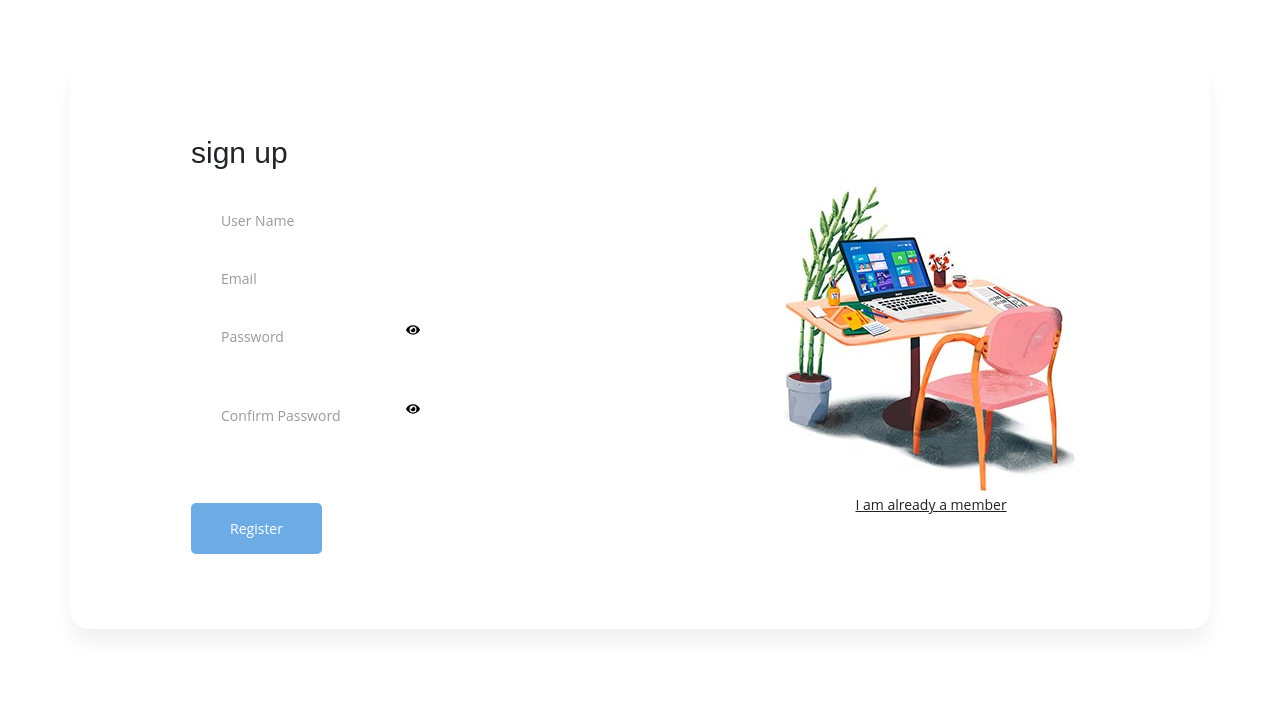
Test: UserSignup component › handles form submission successfully
This screenshot has width=1280, height=720.
In the field with placeholder "User Name": (390, 220) x1=191 y1=204 x2=589 y2=237, type "testUser"
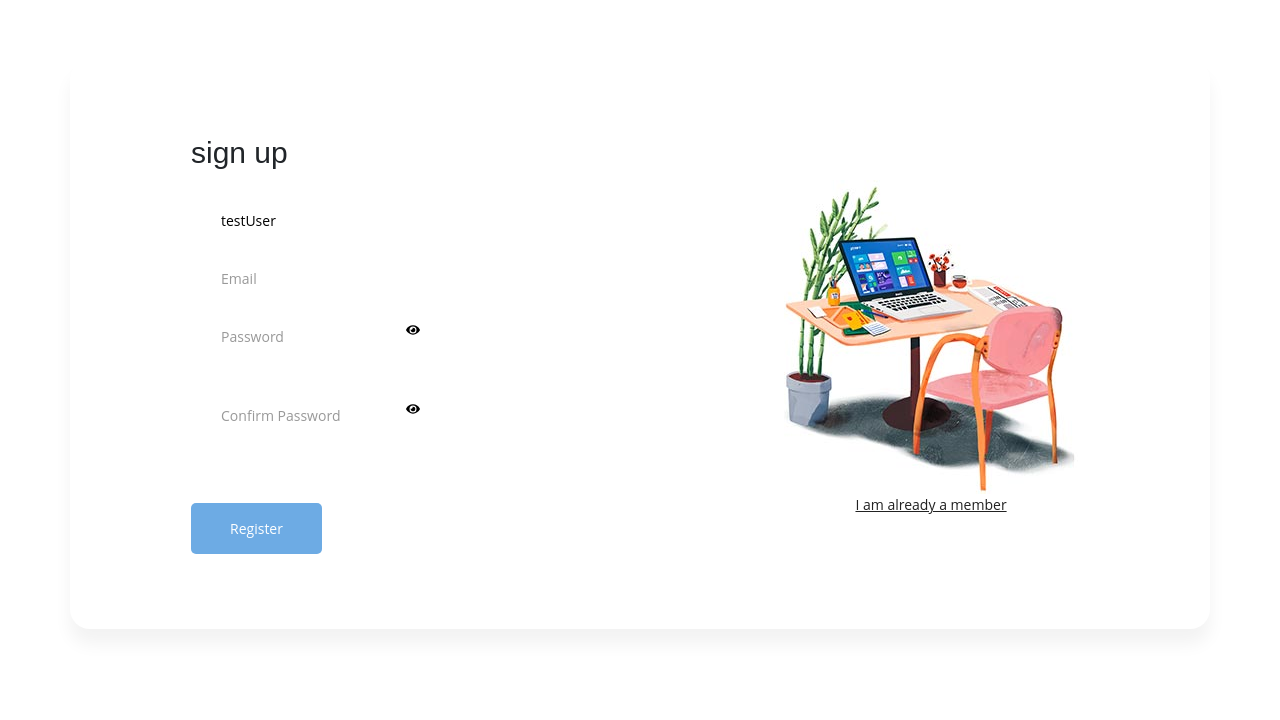
In the field with placeholder "Email": (390, 278) x1=191 y1=262 x2=589 y2=295, type "testUser@gmail.com"
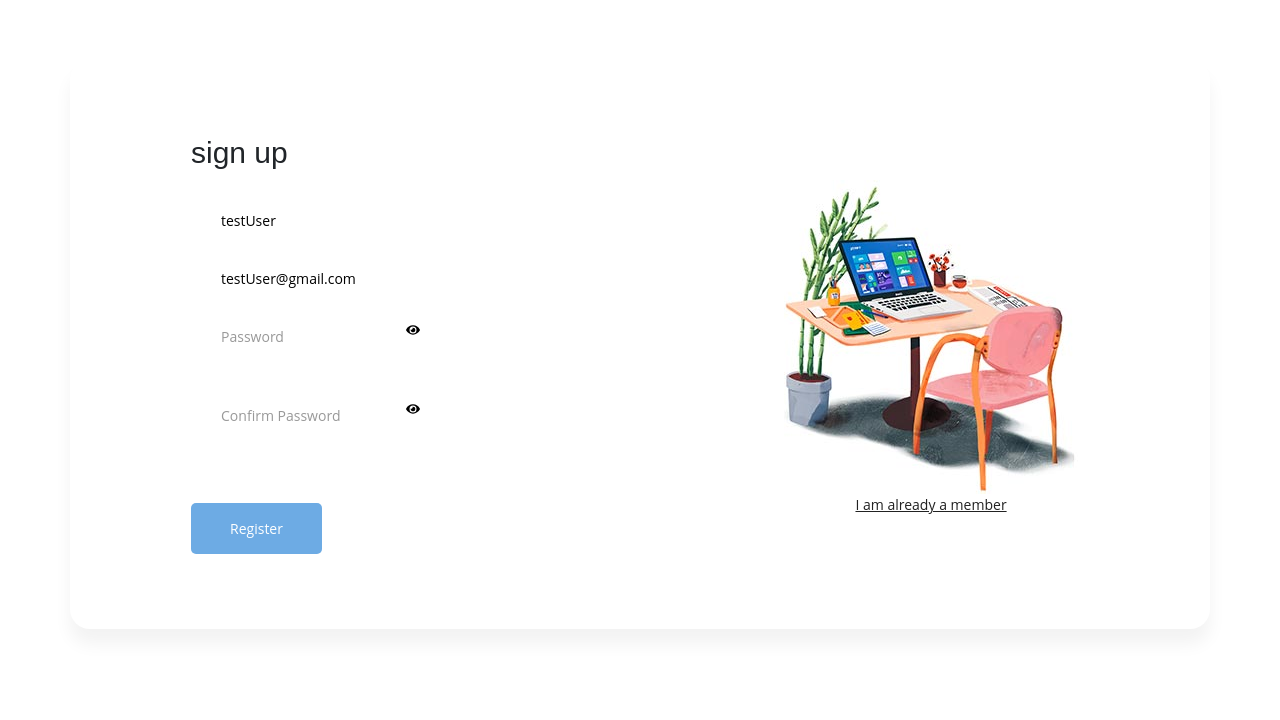
Check: the password field with placeholder "Confirm Password" is shown, box x1=191 y1=399 x2=589 y2=432
In the password field with placeholder "Password": (390, 336) x1=191 y1=320 x2=589 y2=353, type "testUserPassword"
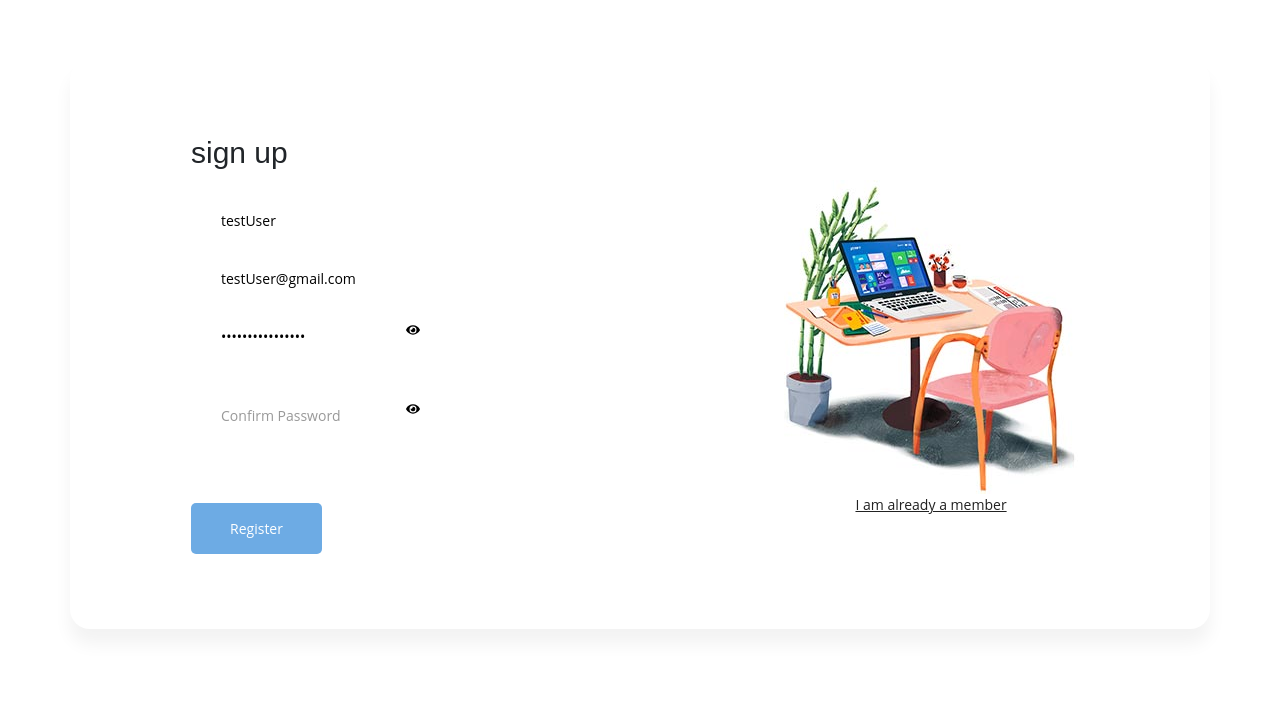
In the password field with placeholder "Confirm Password": (390, 416) x1=191 y1=399 x2=589 y2=432, type "testUserPassword"
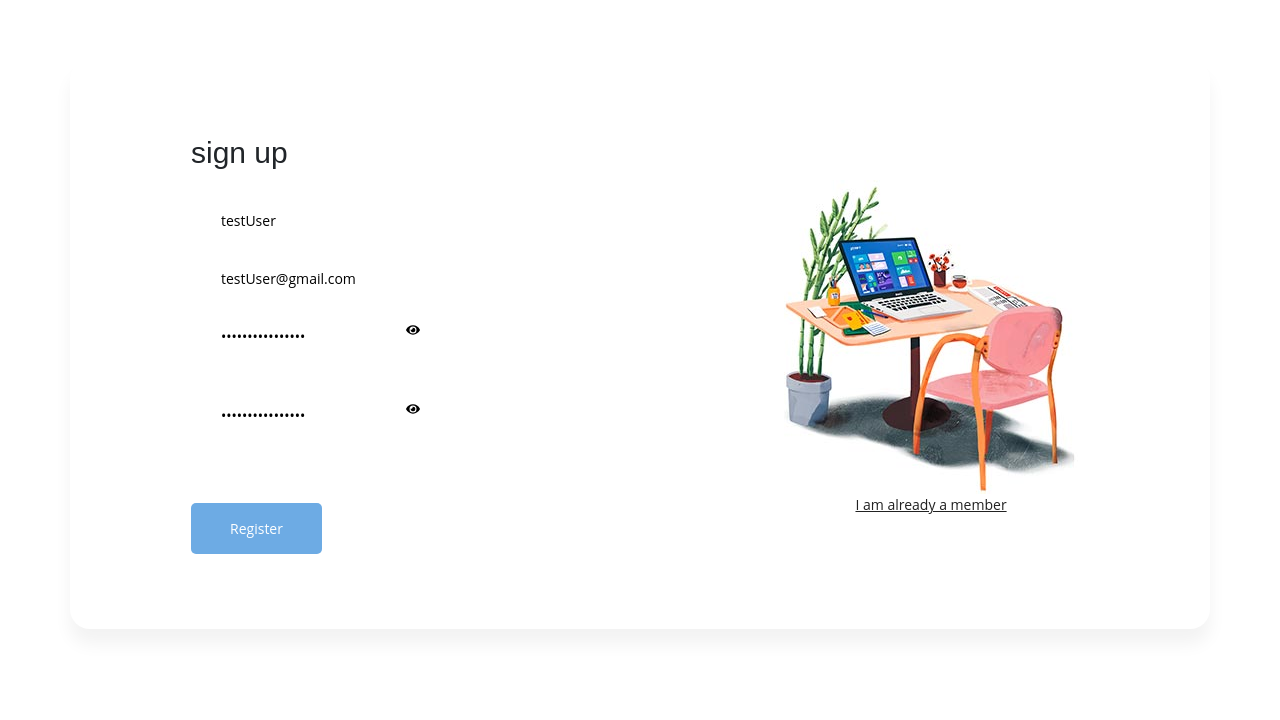
Click the button "Register": (256, 528) x1=191 y1=503 x2=322 y2=554
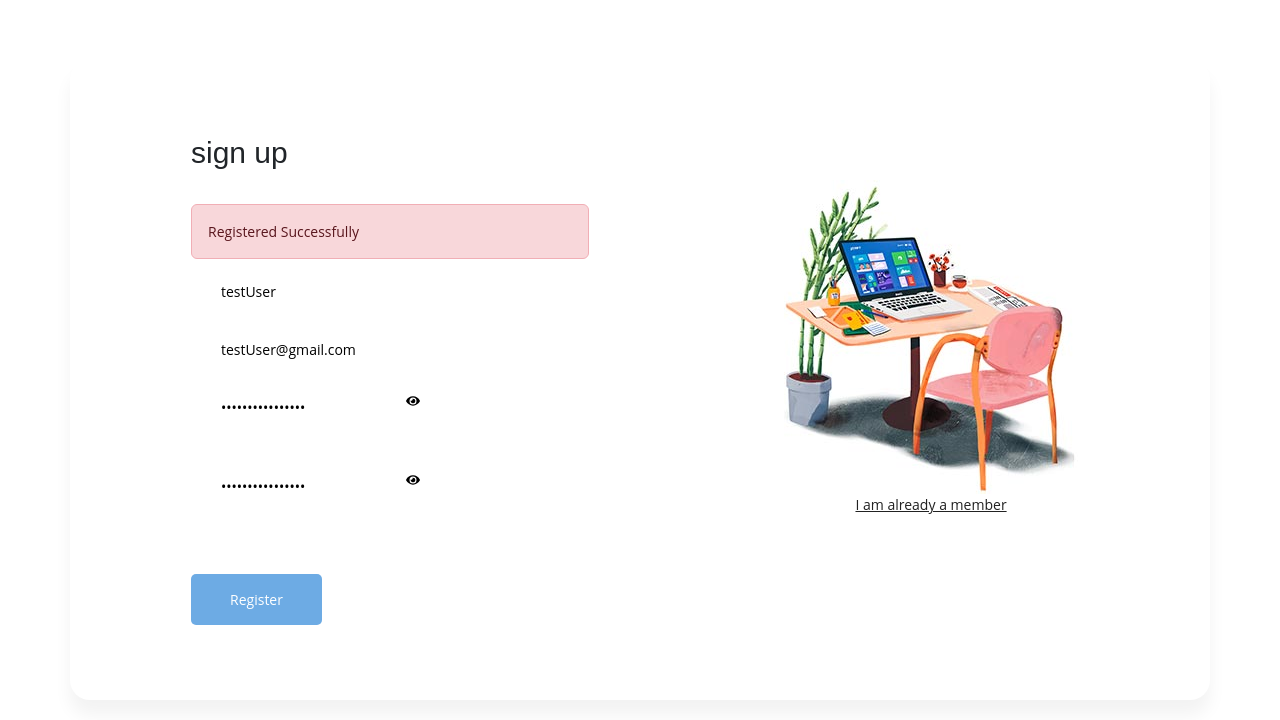
Check: the text "Registered Successfully" is shown, box x1=191 y1=204 x2=589 y2=259
